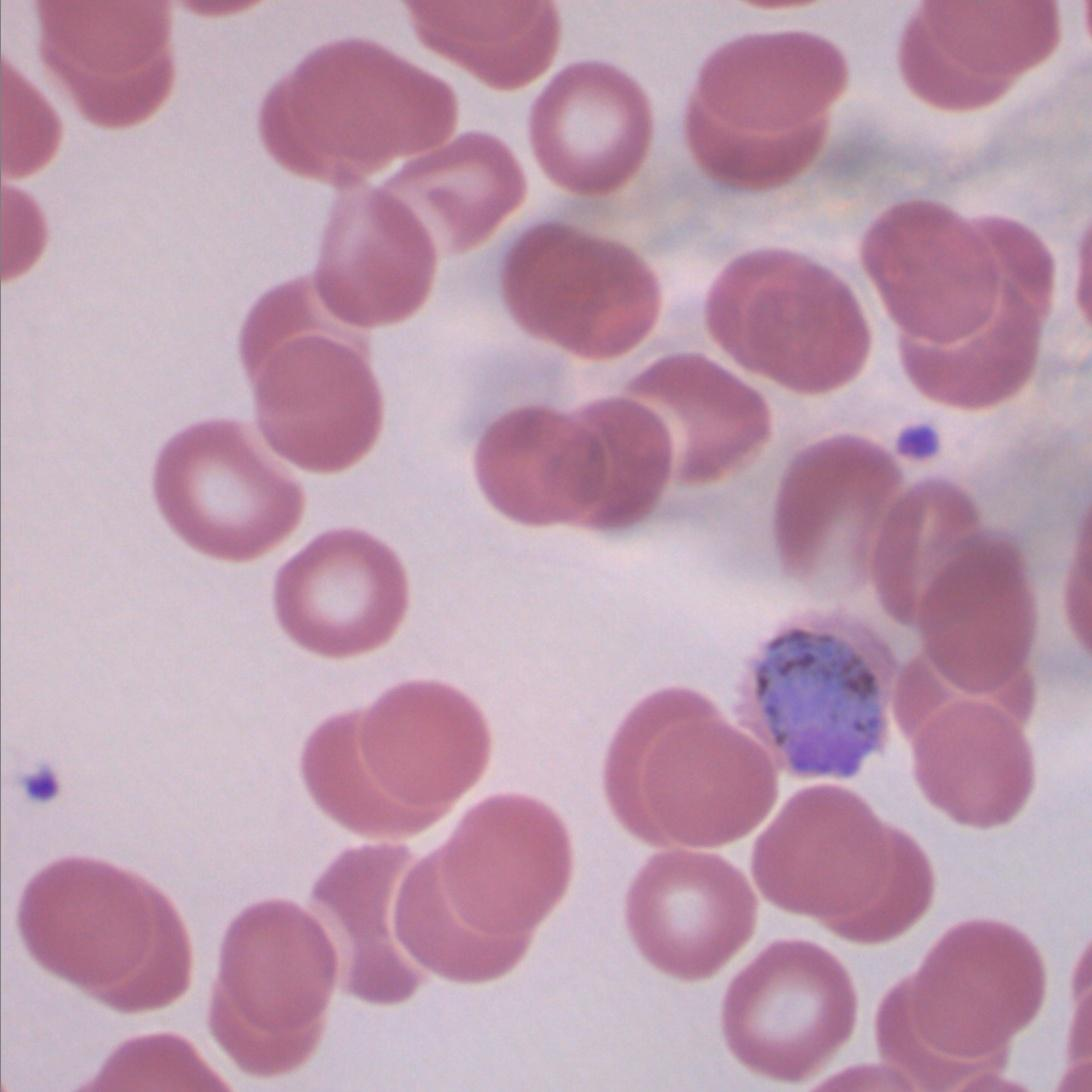Infected: (734, 606, 902, 779)
Uninfected: (300, 833, 455, 1006), (708, 248, 865, 407), (290, 33, 460, 174), (147, 421, 307, 562), (308, 161, 440, 330), (860, 193, 1003, 339), (895, 261, 1035, 409), (715, 936, 857, 1081), (368, 131, 525, 262), (770, 438, 895, 602), (600, 681, 725, 842), (907, 913, 1042, 1061), (922, 533, 1042, 697), (300, 708, 458, 832), (750, 783, 897, 916), (438, 793, 573, 937), (357, 676, 497, 811), (20, 846, 153, 987), (270, 528, 413, 659), (618, 358, 768, 482), (250, 338, 388, 472), (390, 858, 538, 982), (875, 468, 987, 630), (640, 721, 783, 846), (625, 853, 760, 982), (883, 633, 1038, 744), (525, 63, 650, 199), (250, 273, 368, 414), (685, 76, 828, 192), (470, 401, 603, 525), (545, 403, 668, 537), (912, 691, 1032, 827), (93, 863, 198, 1017), (220, 896, 338, 1032), (810, 821, 933, 951), (698, 31, 850, 135), (535, 236, 662, 360), (210, 966, 335, 1081)
